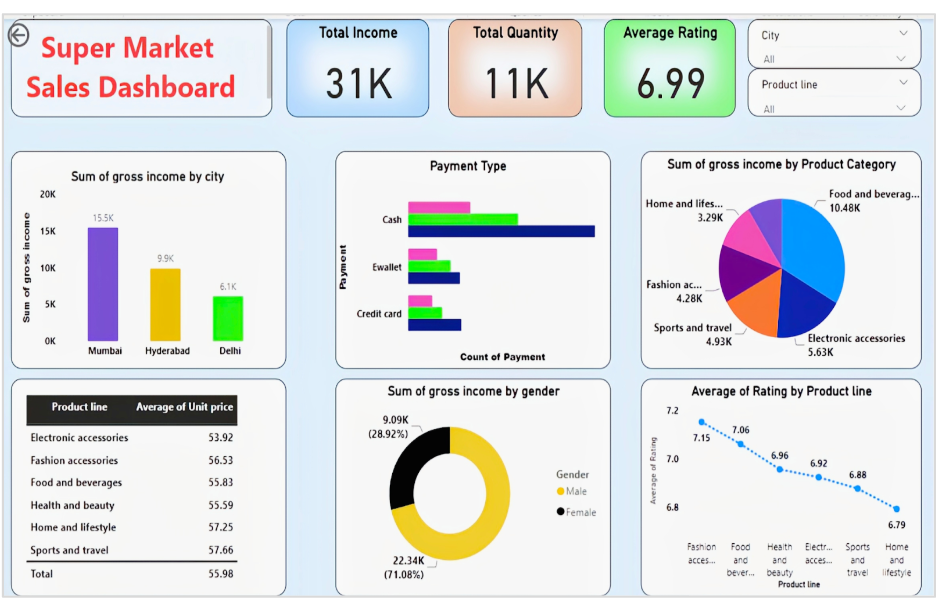

What the dashboard file says about the page in this screenshot:
{"tool":"powerbi","page":{"name":"Page 1","canvas":[1920,1080],"ordinal":0},"visuals":[{"type":"textbox","box":[9,10,481.6,150.3],"z":0},{"type":"cardVisual","title":"Total Income","fields":{"Data":["Sum(Realmart Sales Dataset.gross income)"]},"box":[522.8,10.3,232.6,150.3],"z":1000},{"type":"cardVisual","title":"Total Quantity","fields":{"Data":["Sum(Realmart Sales Dataset.Quantity)"]},"box":[872.7,12.3,216.1,150.3],"z":2000},{"type":"columnChart","fields":{"Category":["Realmart Sales Dataset.City"],"Y":["Sum(Realmart Sales Dataset.gross income)"]},"box":[8.2,226.4,481.6,393.1],"z":3000},{"type":"clusteredBarChart","fields":{"Category":["Realmart Sales Dataset.Payment"],"Y":["CountNonNull(Realmart Sales Dataset.Product line)"]},"box":[652.5,226.4,481.6,393.1],"z":4000},{"type":"tableEx","fields":{"Values":["Realmart Sales Dataset.Product line","Avg(Realmart Sales Dataset.Unit price)"]},"box":[8.2,669,481.6,397.3],"z":5000},{"type":"pieChart","fields":{"Category":["Realmart Sales Dataset.Product line"],"Y":["Sum(Realmart Sales Dataset.gross income)"]},"box":[1366.7,228.5,481.6,393.1],"z":6000},{"type":"lineChart","fields":{"Category":["Realmart Sales Dataset.Product line"],"Y":["Avg(Realmart Sales Dataset.Rating)"]},"box":[1385.3,669,481.6,411.7],"z":7000},{"type":"donutChart","fields":{"Y":["Sum(Realmart Sales Dataset.gross income)"],"Category":["Realmart Sales Dataset.Gender"]},"box":[652.5,669,481.6,411.7],"z":8000},{"type":"cardVisual","title":"Average Rating","fields":{"Data":["Avg(Realmart Sales Dataset.Rating)"]},"box":[1150.6,12.3,216.1,150.3],"z":9000},{"type":"slicer","fields":{"Values":["Realmart Sales Dataset.City"]},"box":[1418.2,0,473.4,84.4],"z":10000},{"type":"slicer","title":"Product Filter","fields":{"Values":["Realmart Sales Dataset.Product line"]},"box":[1416,99,473.4,84.4],"z":10001}]}

Visuals, with their boxes on the page's 1920x1080 design canvas (x1, y1, x2, y2). These are canvas units, not pixel positions in the 936x603 screenshot, which may show the page scaled, cropped or inside an application window:
textbox: {"x1": 9, "y1": 10, "x2": 491, "y2": 160}
"Total Income" cardVisual: {"x1": 523, "y1": 10, "x2": 755, "y2": 161}
"Total Quantity" cardVisual: {"x1": 873, "y1": 12, "x2": 1089, "y2": 163}
columnChart - Realmart Sales Dataset.City x Sum(Realmart Sales Dataset.gross income): {"x1": 8, "y1": 226, "x2": 490, "y2": 620}
clusteredBarChart - Realmart Sales Dataset.Payment x CountNonNull(Realmart Sales Dataset.Product line): {"x1": 652, "y1": 226, "x2": 1134, "y2": 620}
tableEx - Realmart Sales Dataset.Product line x Avg(Realmart Sales Dataset.Unit price): {"x1": 8, "y1": 669, "x2": 490, "y2": 1066}
pieChart - Realmart Sales Dataset.Product line x Sum(Realmart Sales Dataset.gross income): {"x1": 1367, "y1": 228, "x2": 1848, "y2": 622}
lineChart - Realmart Sales Dataset.Product line x Avg(Realmart Sales Dataset.Rating): {"x1": 1385, "y1": 669, "x2": 1867, "y2": 1081}
donutChart - Sum(Realmart Sales Dataset.gross income) x Realmart Sales Dataset.Gender: {"x1": 652, "y1": 669, "x2": 1134, "y2": 1081}
"Average Rating" cardVisual: {"x1": 1151, "y1": 12, "x2": 1367, "y2": 163}
slicer - Realmart Sales Dataset.City: {"x1": 1418, "y1": 0, "x2": 1892, "y2": 84}
"Product Filter" slicer: {"x1": 1416, "y1": 99, "x2": 1889, "y2": 183}
